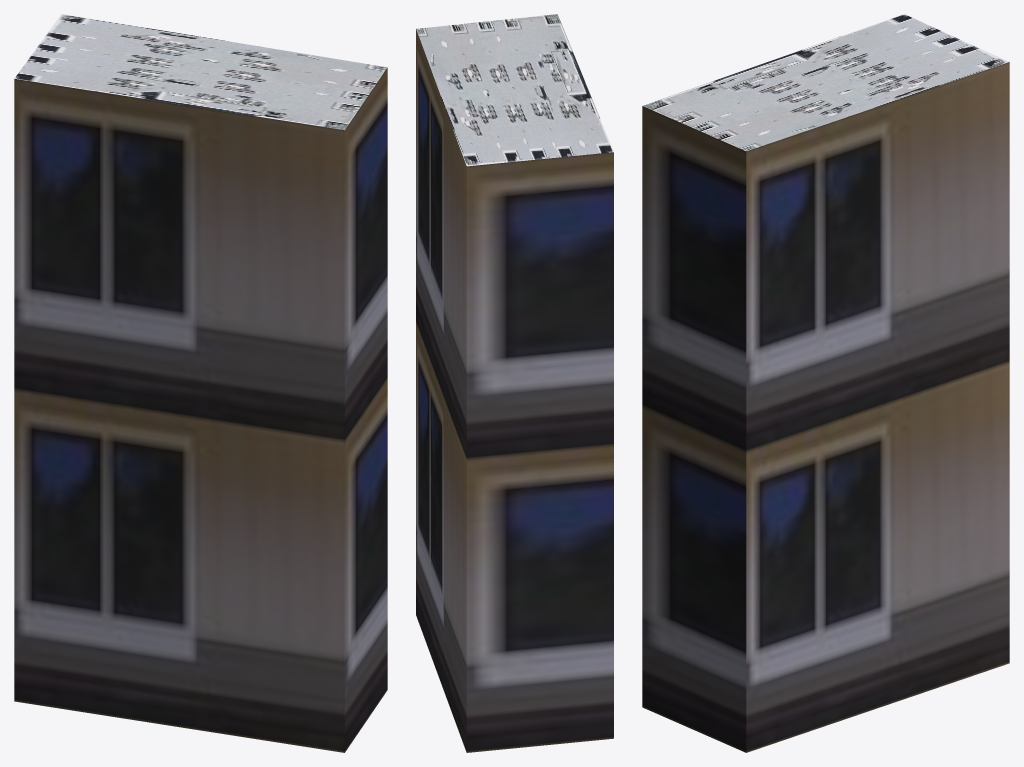
Rendered from ResTex__1528.fbx.
The picture shows the model from 3 angles, left to right: view 1: azimuth 30°, elevation 25°; view 2: azimuth 150°, elevation 25°; view 3: azimuth 270°, elevation 25°; orthographic projection. The views are drawn at different scales.
Visible parts, largest first — view 1: CityEngineMaterial_5_m, CityEngineMaterial_m; view 2: CityEngineMaterial_5_m, CityEngineMaterial_m; view 3: CityEngineMaterial_5_m, CityEngineMaterial_m.
Boxes of the visible parts, x1=… form: CityEngineMaterial_5_m: x1=14, y1=68, x2=387, y2=752; CityEngineMaterial_m: x1=14, y1=14, x2=387, y2=130; CityEngineMaterial_5_m: x1=416, y1=29, x2=613, y2=752; CityEngineMaterial_m: x1=416, y1=14, x2=613, y2=166; CityEngineMaterial_5_m: x1=642, y1=62, x2=1009, y2=752; CityEngineMaterial_m: x1=643, y1=14, x2=1008, y2=151.
Size of the model in its own units: 2.94 by 6 by 3.32.
2 materials, 2 textured.
